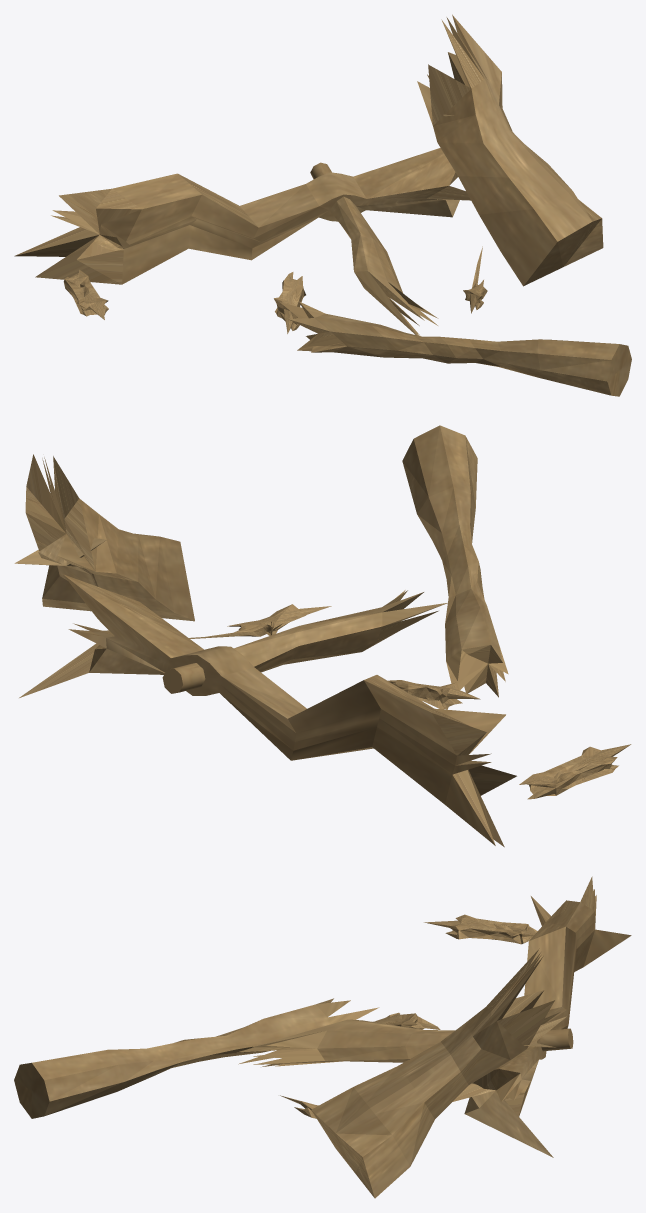
The model's file is break_bomboo.FBX.
3 views of the same model, one above another, from view 1: azimuth 30°, elevation 25°; view 2: azimuth 150°, elevation 25°; view 3: azimuth 270°, elevation 25° (orthographic). The views are drawn at different scales.
Visible parts, largest first — view 1: obj; view 2: obj; view 3: obj.
Part boxes in pixels (x1,y1,x2,y2): obj: (14, 14, 631, 396); obj: (14, 425, 631, 847); obj: (14, 876, 631, 1198).
Bounding box in the file's own units: 31.73 × 12.56 × 32.99.
